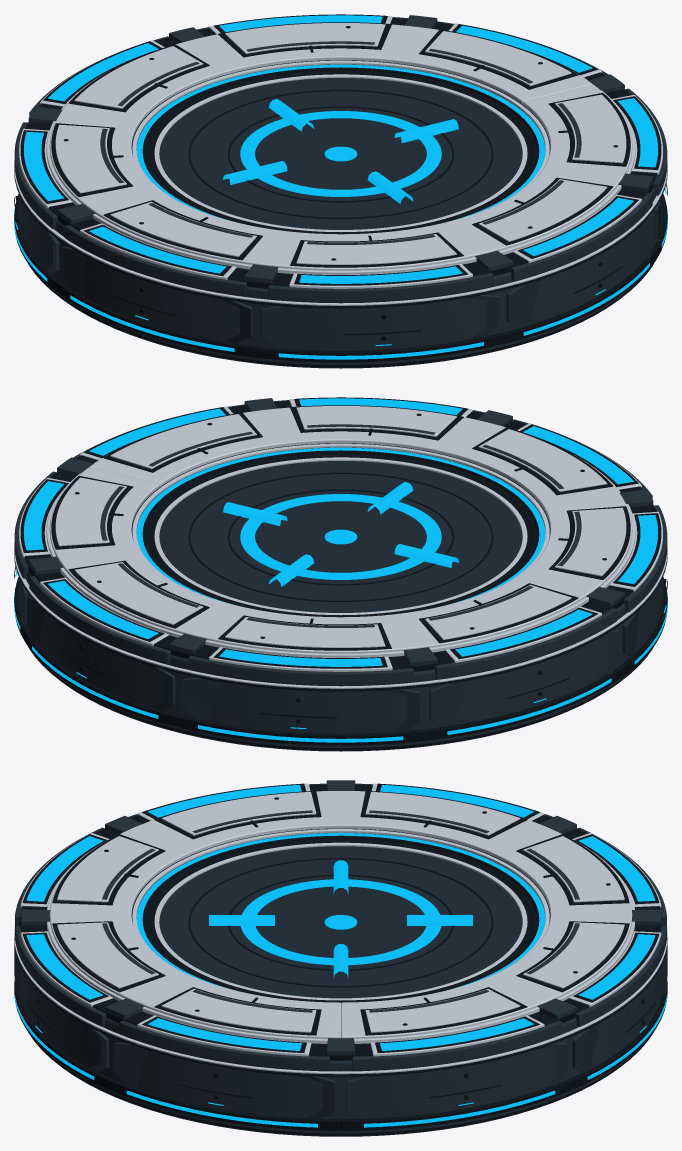
The model's file is Striker.fbx.
3 views of the same model, one above another, from view 1: azimuth 30°, elevation 25°; view 2: azimuth 150°, elevation 25°; view 3: azimuth 270°, elevation 25° (orthographic).
Visible parts, largest first — view 1: SM_Puck_Striker; view 2: SM_Puck_Striker; view 3: SM_Puck_Striker.
Part boxes in pixels (bbox=[...]): SM_Puck_Striker: bbox=[14, 14, 667, 368]; SM_Puck_Striker: bbox=[14, 397, 667, 751]; SM_Puck_Striker: bbox=[14, 780, 667, 1136].
Size of the model in its own units: 82.72 by 82.72 by 13.39.
